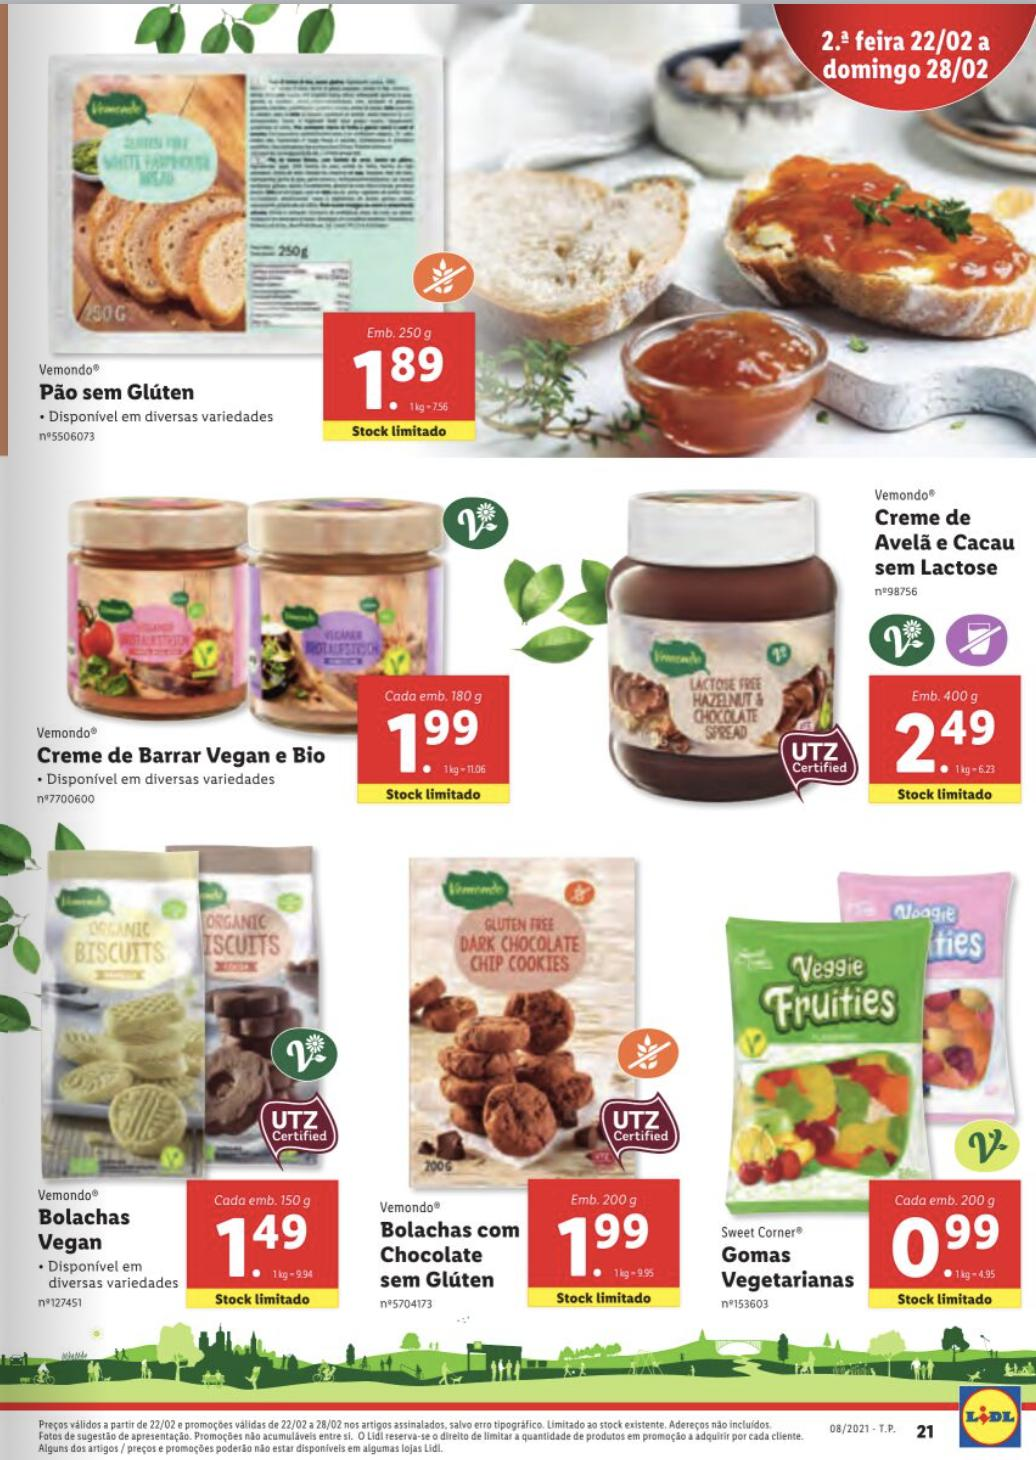name: (868, 502, 1019, 584), (379, 1218, 522, 1293), (39, 740, 334, 771), (716, 1244, 861, 1293), (28, 1202, 138, 1254), (33, 373, 198, 407)
price: (885, 1207, 1014, 1284), (888, 702, 1008, 784), (209, 1209, 320, 1293), (383, 702, 499, 782), (354, 342, 465, 422), (559, 1211, 667, 1284)
product: (27, 36, 485, 458), (28, 480, 518, 824), (707, 837, 1034, 1322), (24, 842, 348, 1320), (370, 840, 685, 1322), (592, 466, 1032, 798)
